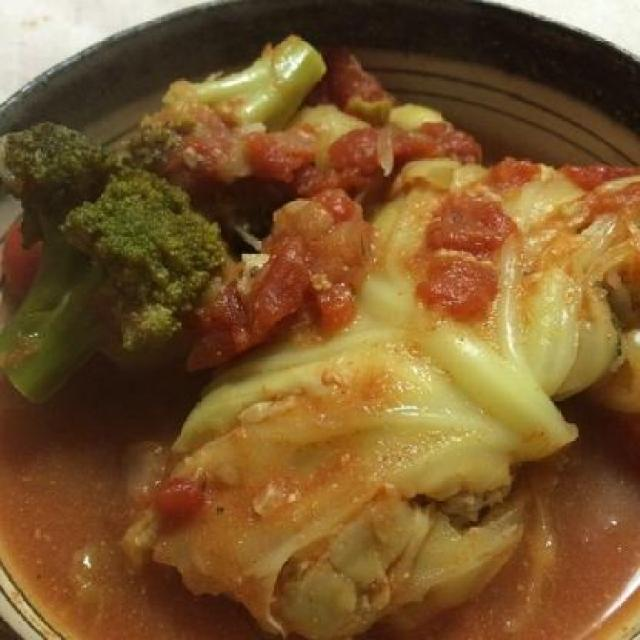Broccoli: (0, 115, 231, 408), (128, 30, 329, 199)
